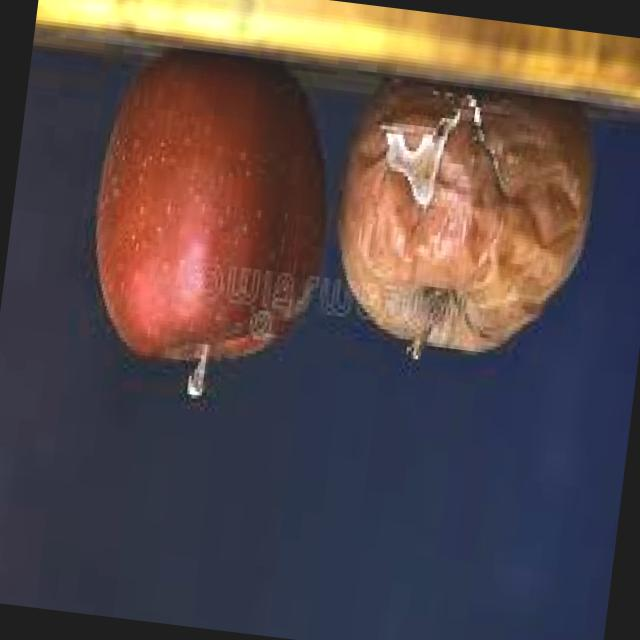Red Apple: (77, 39, 345, 378)
Rotten Apple: (323, 63, 606, 364)
